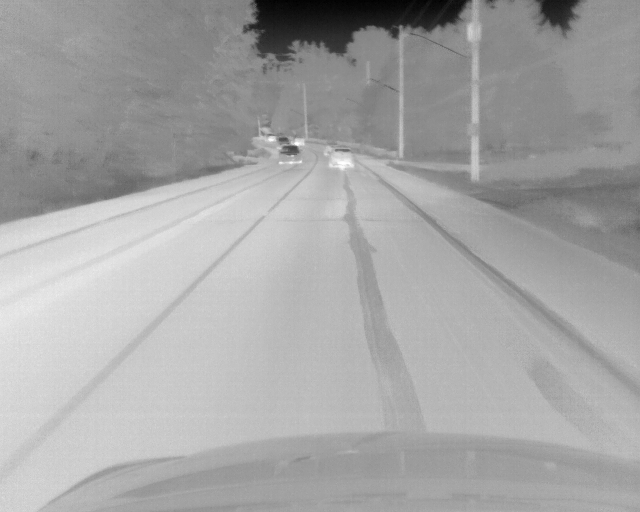car: (326, 148, 354, 170), (275, 144, 302, 165), (259, 132, 274, 145), (275, 136, 290, 146), (292, 136, 305, 147)
